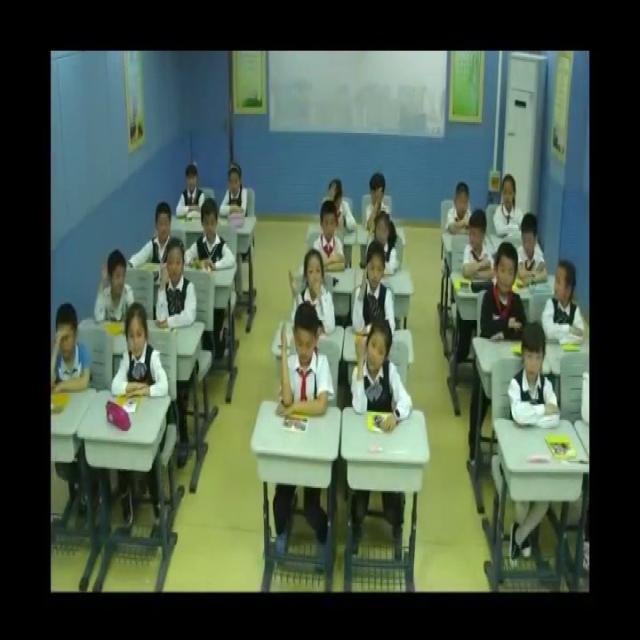distracted: (48, 303, 93, 395), (543, 258, 588, 348), (464, 208, 503, 292), (94, 251, 137, 327), (518, 209, 549, 285), (323, 177, 358, 241), (365, 172, 396, 238)
focused: (507, 318, 561, 431), (112, 305, 170, 407), (484, 242, 532, 341), (184, 199, 237, 278), (133, 202, 181, 270), (314, 200, 349, 275), (368, 208, 400, 278), (495, 172, 526, 238), (222, 163, 254, 225), (175, 164, 208, 223), (447, 180, 478, 234)
raising_hand: (354, 317, 415, 432), (281, 296, 331, 422), (288, 250, 339, 335), (353, 240, 398, 336), (158, 238, 198, 336)
